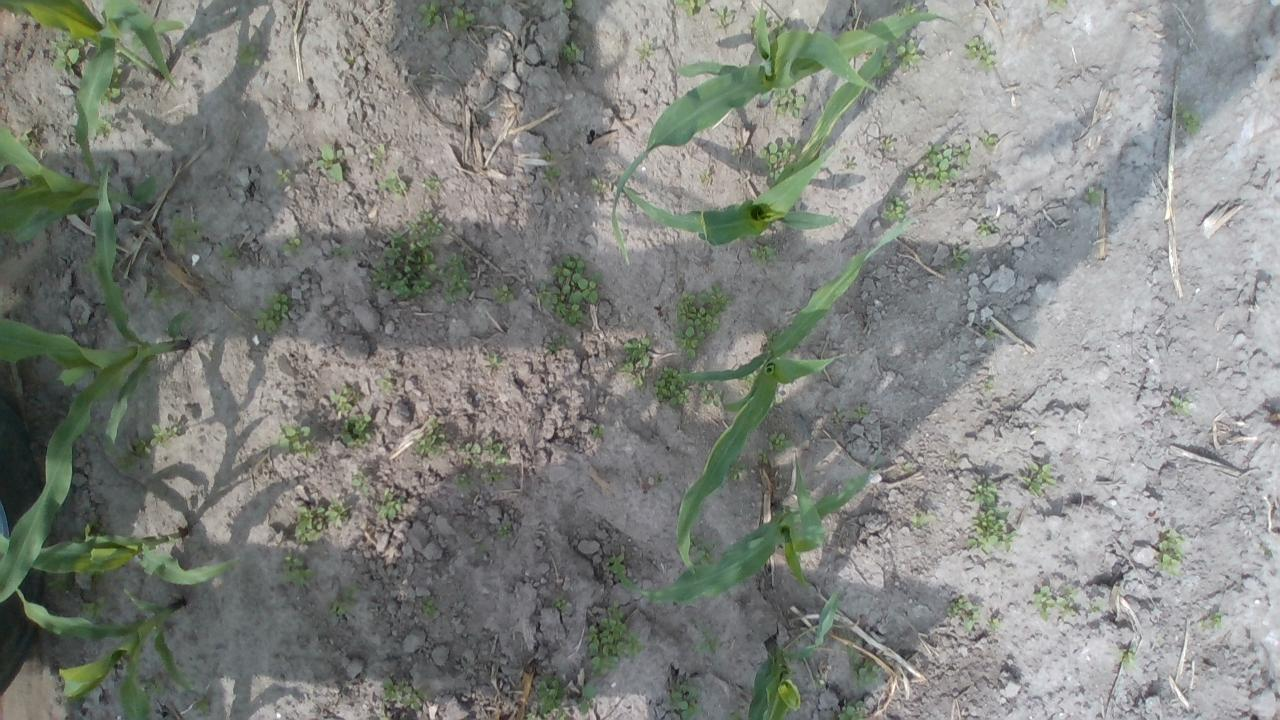Maize: (607, 2, 964, 270), (0, 148, 192, 615), (673, 217, 916, 570), (609, 42, 886, 243), (615, 447, 877, 602), (0, 0, 195, 179), (4, 584, 198, 720), (0, 116, 159, 243), (0, 530, 247, 592), (744, 584, 844, 720)
Weeds: (364, 207, 443, 300), (534, 252, 602, 326), (672, 279, 731, 362), (587, 600, 644, 677), (905, 141, 971, 195), (966, 506, 1020, 556), (294, 498, 348, 544), (614, 336, 652, 392), (438, 251, 474, 303), (758, 138, 800, 182), (456, 436, 510, 470), (1154, 526, 1188, 580), (380, 676, 428, 712), (49, 31, 85, 77), (270, 423, 318, 457), (1031, 585, 1076, 621), (847, 644, 882, 690), (652, 366, 692, 406), (665, 678, 703, 720), (166, 213, 203, 256), (254, 291, 290, 335), (944, 596, 984, 632), (412, 417, 446, 458), (1020, 462, 1056, 500), (536, 674, 568, 716), (115, 436, 151, 472), (280, 553, 316, 589), (96, 60, 124, 106), (328, 584, 362, 618), (772, 86, 806, 120), (315, 142, 344, 180), (892, 36, 922, 72), (330, 381, 362, 414), (340, 412, 371, 446), (146, 276, 177, 308), (966, 36, 995, 70), (374, 488, 404, 520), (80, 594, 112, 623), (966, 479, 998, 505), (881, 192, 908, 222), (378, 171, 408, 198), (692, 627, 719, 656), (688, 534, 714, 564), (418, 0, 445, 28), (150, 421, 180, 446), (1178, 105, 1202, 136), (1110, 644, 1138, 670), (832, 699, 866, 720), (750, 243, 780, 266), (942, 247, 970, 271), (450, 6, 477, 30), (544, 335, 574, 356), (216, 241, 242, 265), (237, 43, 261, 67), (282, 232, 306, 256), (710, 6, 734, 30), (491, 284, 517, 306), (140, 674, 166, 696), (453, 470, 478, 492), (674, 0, 706, 17), (1196, 611, 1224, 630), (44, 574, 70, 594), (699, 386, 725, 406), (580, 682, 596, 714), (604, 552, 627, 574), (726, 460, 750, 481), (558, 40, 582, 61), (350, 469, 370, 494), (634, 40, 656, 62), (768, 431, 791, 452), (82, 250, 100, 276), (480, 467, 506, 485), (767, 18, 788, 40), (874, 57, 894, 80), (423, 172, 442, 196), (376, 371, 394, 396), (978, 130, 998, 152), (976, 218, 1000, 236), (95, 115, 115, 136), (193, 696, 213, 716), (762, 326, 782, 346), (897, 0, 919, 18), (422, 596, 438, 620), (494, 520, 513, 540), (1170, 396, 1190, 415), (909, 513, 935, 527), (1084, 186, 1104, 204), (487, 348, 504, 369), (542, 164, 564, 180), (274, 167, 292, 186), (811, 673, 830, 690), (371, 142, 384, 166), (331, 244, 356, 256), (852, 404, 872, 419), (589, 178, 606, 195), (738, 371, 756, 387), (1086, 600, 1106, 614), (552, 596, 568, 612), (16, 132, 32, 148), (591, 422, 606, 438), (699, 169, 714, 185), (756, 446, 768, 464), (748, 13, 758, 34), (185, 33, 197, 50), (988, 616, 1002, 630), (474, 536, 486, 552), (842, 157, 856, 170), (726, 708, 741, 720), (984, 325, 996, 340), (537, 150, 555, 160), (1048, 0, 1068, 9), (834, 406, 844, 423), (882, 138, 896, 150), (526, 710, 542, 720), (985, 378, 994, 392), (556, 710, 568, 720), (654, 474, 664, 485), (562, 0, 574, 9), (774, 395, 784, 404), (346, 55, 354, 63), (380, 716, 390, 720)
